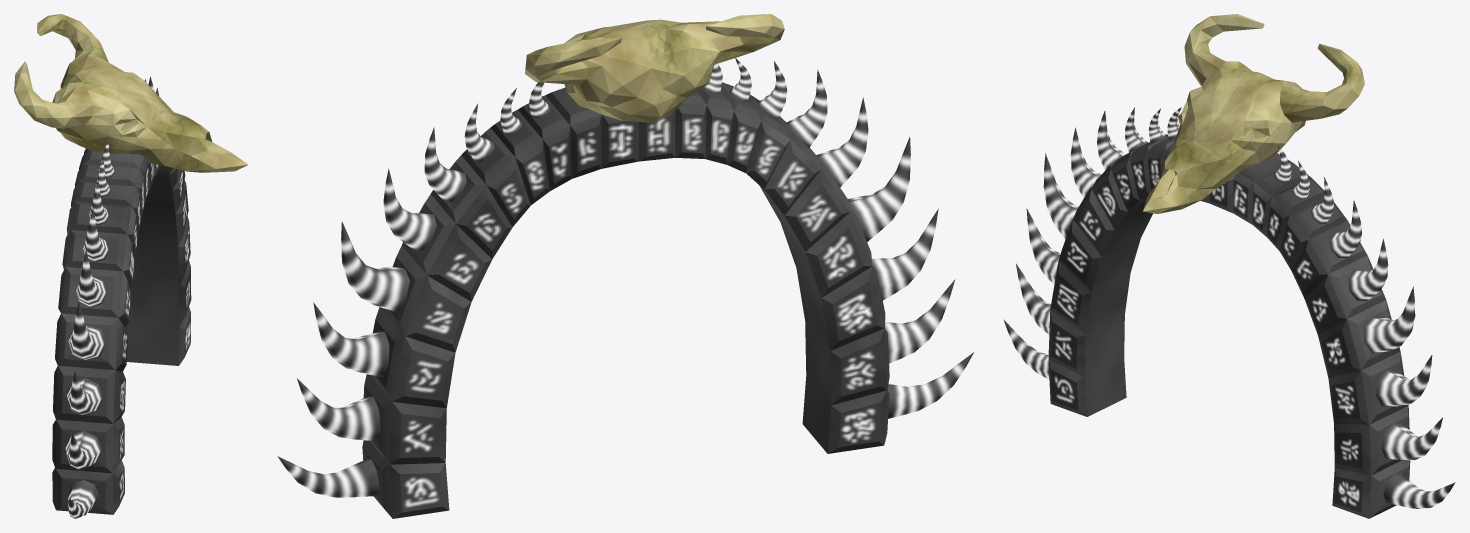
File: LV6GateGeo.fbx
3 views of the same model, side by side, from view 1: azimuth 30°, elevation 25°; view 2: azimuth 150°, elevation 25°; view 3: azimuth 270°, elevation 25° (orthographic). The views are drawn at different scales.
Parts seen in each view (by area): view 1: polySurface85; view 2: polySurface85; view 3: polySurface85.
Part boxes in pixels (left/top/right/bottom): polySurface85: left=14, top=14, right=248, bottom=518; polySurface85: left=277, top=14, right=973, bottom=518; polySurface85: left=1003, top=14, right=1455, bottom=518.
Size of the model in its own units: 33.12 by 36.85 by 38.8.
